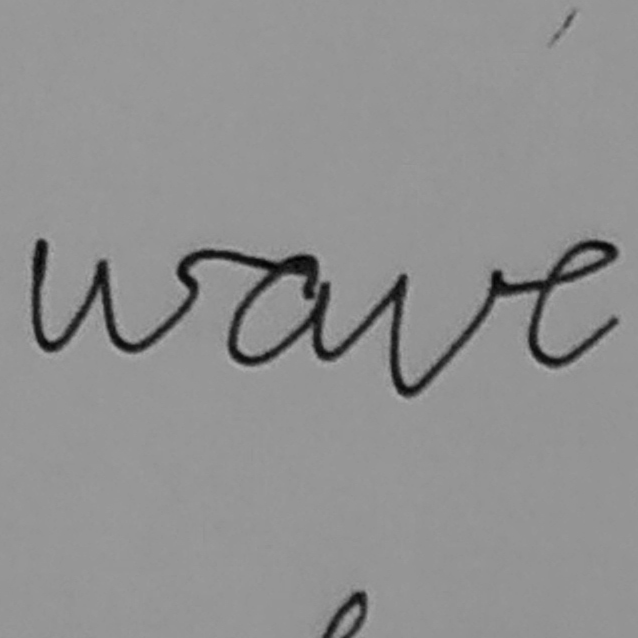a: (222, 245, 337, 372)
e: (525, 234, 622, 373)
v: (383, 263, 506, 402)
w: (25, 232, 203, 361)
